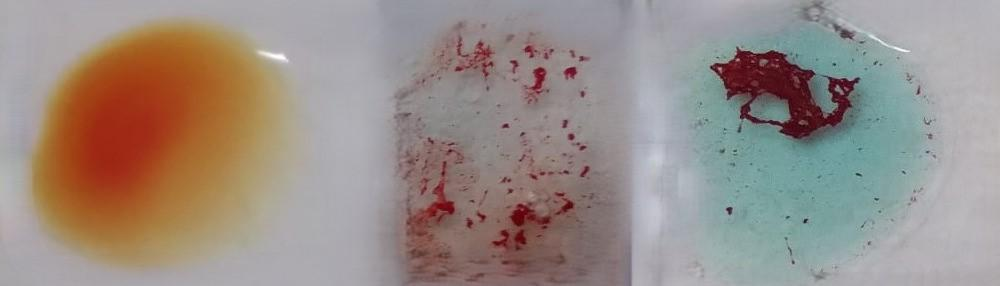A: (678, 16, 926, 280)
D: (396, 21, 617, 286)
